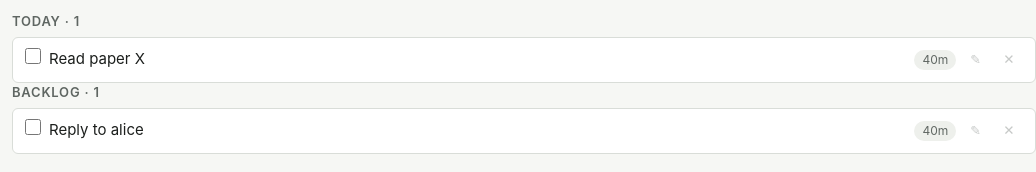
Scenario: TodayList › [F-027] the ✕ button removes a row optimistically and POSTs drop
Click the button with test id "row-remove" in the row of "Read paper X": click(1009, 60) [995, 46, 1023, 74]
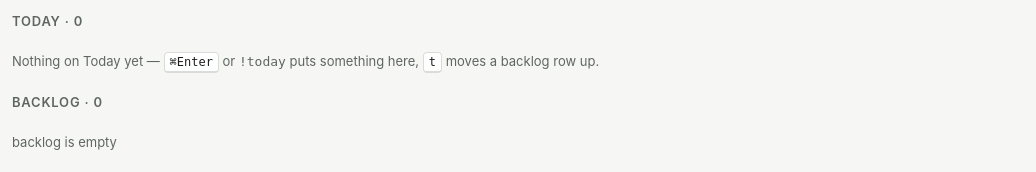
Expected: no list items with test id "today-row" are shown
